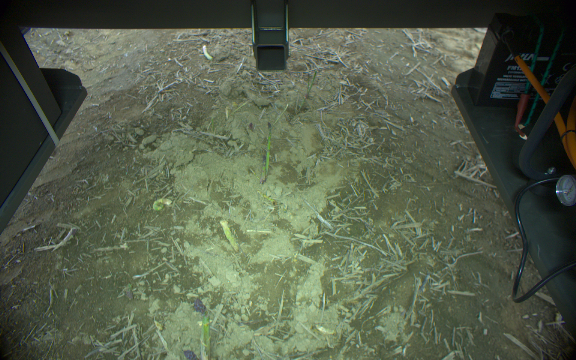aspa: (192, 296, 218, 360), (217, 216, 242, 254), (262, 120, 278, 173), (257, 146, 269, 184), (179, 346, 194, 360)
